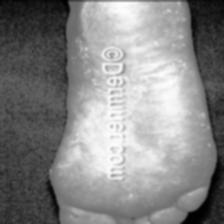Toxin: (163, 4, 213, 188), (64, 29, 104, 188)
